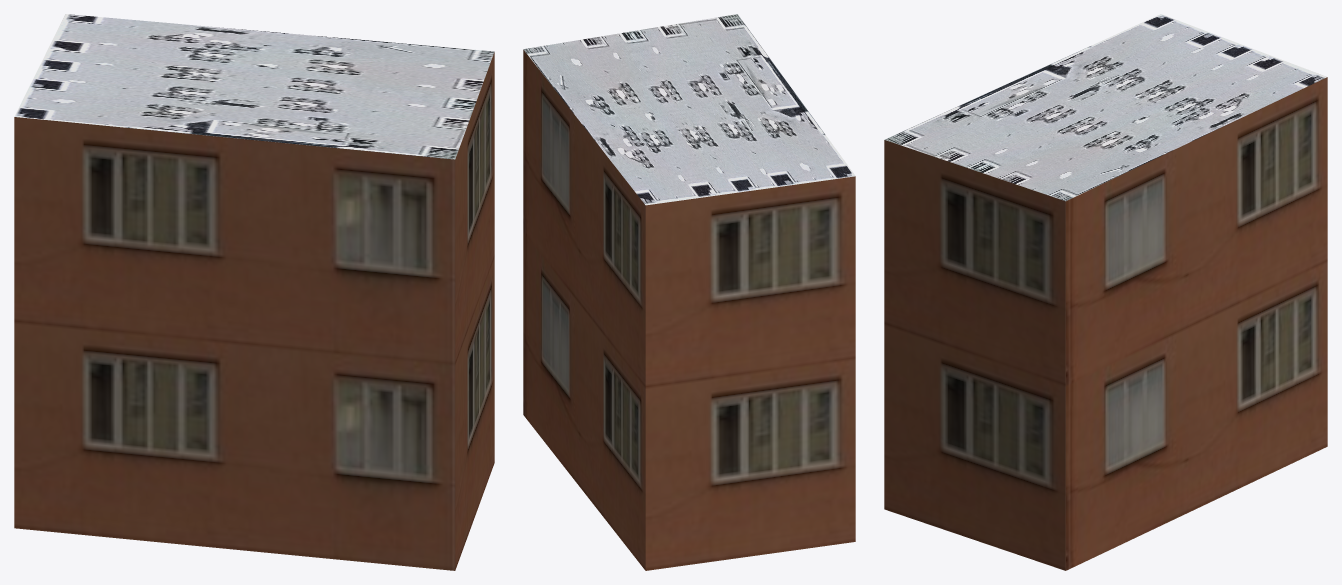
Rendered from ResTex__5027.fbx.
3 views of the same model, side by side, from view 1: azimuth 30°, elevation 25°; view 2: azimuth 150°, elevation 25°; view 3: azimuth 270°, elevation 25° (orthographic). The views are drawn at different scales.
Visible parts, largest first — view 1: CityEngineMaterial_20_m, CityEngineMaterial_m; view 2: CityEngineMaterial_20_m, CityEngineMaterial_m; view 3: CityEngineMaterial_20_m, CityEngineMaterial_m.
Part boxes in pixels (bbox=[...]): CityEngineMaterial_20_m: bbox=[14, 52, 494, 570]; CityEngineMaterial_m: bbox=[14, 14, 494, 159]; CityEngineMaterial_20_m: bbox=[523, 50, 855, 570]; CityEngineMaterial_m: bbox=[523, 14, 855, 205]; CityEngineMaterial_20_m: bbox=[884, 77, 1327, 570]; CityEngineMaterial_m: bbox=[884, 14, 1326, 201].
Bounding box in the file's own units: 6.52 × 6 × 6.52.
2 materials, 2 textured.
